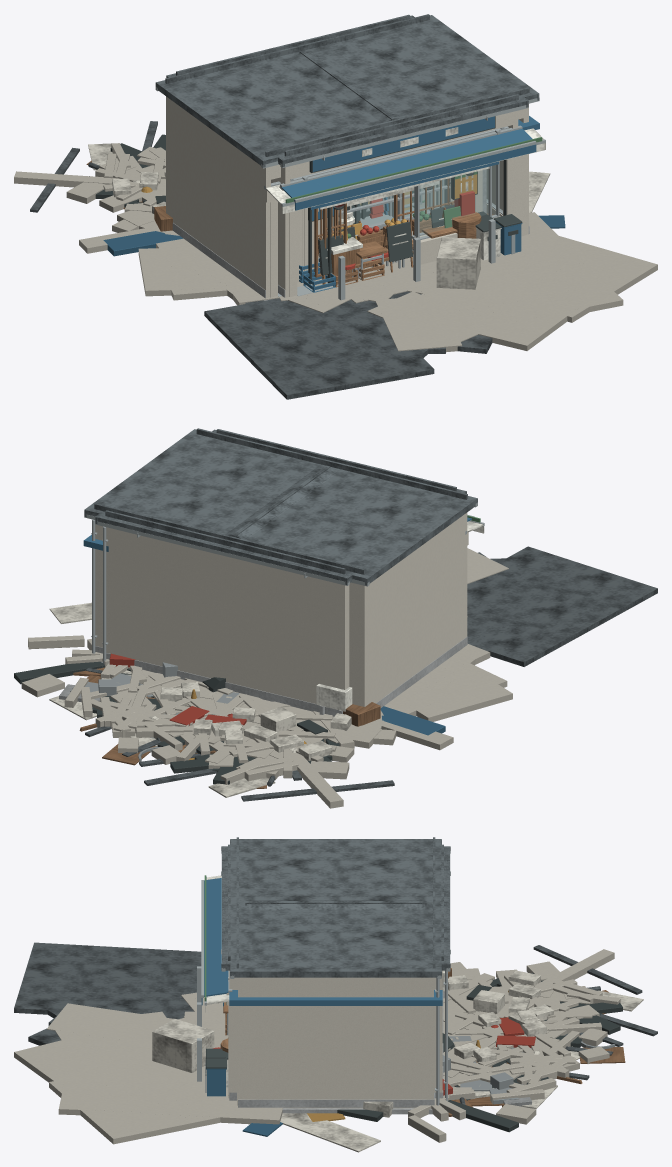
File: shop_00.glb
3 renders of one model, top to bottom at view 1: azimuth 30°, elevation 25°; view 2: azimuth 150°, elevation 25°; view 3: azimuth 270°, elevation 25°, orthographic. The views are drawn at different scales.
Visible parts, largest first — view 1: shop_031__LOD0_roof, shop_031__LOD0_plaster, shop_031__wreck_static_roof, shop_032__LOD0_blue, shop_031__wreck_static_plaster, shop_032__LOD0_roof, shop_032__wreck_static_plaster, shop_032__LOD0_plaster, shop_012__wreck_static_plaster, shop_023__wreck_static_plaster, shop_032__LOD0_glass, shop_006__wreck_static_plaster (+37 smaller); view 2: shop_032__LOD0_plaster, shop_031__LOD0_roof, shop_032_lod2_plaster, shop_031__LOD0_plaster, shop_031__wreck_static_roof, shop_032__LOD0_roof, shop_031__wreck_static_plaster, shop_032__wreck_static_roof, shop_032_lod2_roof, shop_023__wreck_static_plaster, shop_012__wreck_static_plaster, shop_032__wreck_static_plaster (+27 smaller); view 3: shop_031__LOD0_roof, shop_031__LOD0_plaster, shop_031__wreck_static_roof, shop_032__wreck_static_plaster, shop_032__LOD0_blue, shop_012__wreck_static_plaster, shop_031__wreck_static_plaster, shop_006__wreck_static_plaster, shop_024__wreck_static_ceramic, shop_034__wreck_static_plaster, shop_024__wreck_static_plaster, shop_023__wreck_static_plaster (+36 smaller).
Boxes of the visible parts, left/top/right/bottom form: shop_031__LOD0_roof: left=155, top=14, right=539, bottom=167; shop_031__LOD0_plaster: left=166, top=96, right=528, bottom=298; shop_031__wreck_static_roof: left=30, top=121, right=434, bottom=399; shop_032__LOD0_blue: left=281, top=116, right=538, bottom=210; shop_031__wreck_static_plaster: left=79, top=228, right=575, bottom=350; shop_032__LOD0_roof: left=166, top=14, right=528, bottom=166; shop_032__wreck_static_plaster: left=14, top=171, right=657, bottom=322; shop_032__LOD0_plaster: left=271, top=110, right=518, bottom=297; shop_012__wreck_static_plaster: left=345, top=254, right=462, bottom=352; shop_023__wreck_static_plaster: left=66, top=167, right=601, bottom=312; shop_032__LOD0_glass: left=420, top=161, right=502, bottom=236; shop_006__wreck_static_plaster: left=153, top=158, right=550, bottom=313; shop_032__LOD0_plaster: left=106, top=527, right=349, bottom=703; shop_031__LOD0_roof: left=84, top=428, right=477, bottom=585; shop_032_lod2_plaster: left=106, top=527, right=349, bottom=703; shop_031__LOD0_plaster: left=95, top=512, right=468, bottom=706; shop_031__wreck_static_roof: left=144, top=546, right=657, bottom=801; shop_032__LOD0_roof: left=95, top=429, right=466, bottom=584; shop_031__wreck_static_plaster: left=28, top=635, right=512, bottom=750; shop_032__wreck_static_roof: left=492, top=577, right=603, bottom=654; shop_032_lod2_roof: left=95, top=430, right=465, bottom=584; shop_023__wreck_static_plaster: left=148, top=673, right=458, bottom=779; shop_012__wreck_static_plaster: left=113, top=548, right=508, bottom=764; shop_032__wreck_static_plaster: left=95, top=663, right=507, bottom=808; shop_031__LOD0_roof: left=230, top=837, right=441, bottom=977; shop_031__LOD0_plaster: left=235, top=977, right=433, bottom=1108; shop_031__wreck_static_roof: left=14, top=942, right=657, bottom=1036; shop_032__wreck_static_plaster: left=49, top=949, right=614, bottom=1144; shop_032__LOD0_blue: left=201, top=878, right=442, bottom=1005; shop_012__wreck_static_plaster: left=46, top=1003, right=607, bottom=1064; shop_031__wreck_static_plaster: left=14, top=1013, right=519, bottom=1142; shop_006__wreck_static_plaster: left=102, top=996, right=569, bottom=1089; shop_024__wreck_static_ceramic: left=152, top=975, right=468, bottom=1072; shop_034__wreck_static_plaster: left=58, top=974, right=540, bottom=1115; shop_024__wreck_static_plaster: left=152, top=968, right=480, bottom=1124; shop_023__wreck_static_plaster: left=94, top=961, right=577, bottom=1110.
Size of the model in its own units: 11.39 by 3.86 by 15.09.
Materials: 34 (33 with a texture image).
